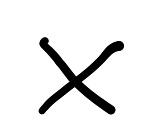mult: (36, 36, 123, 115)
